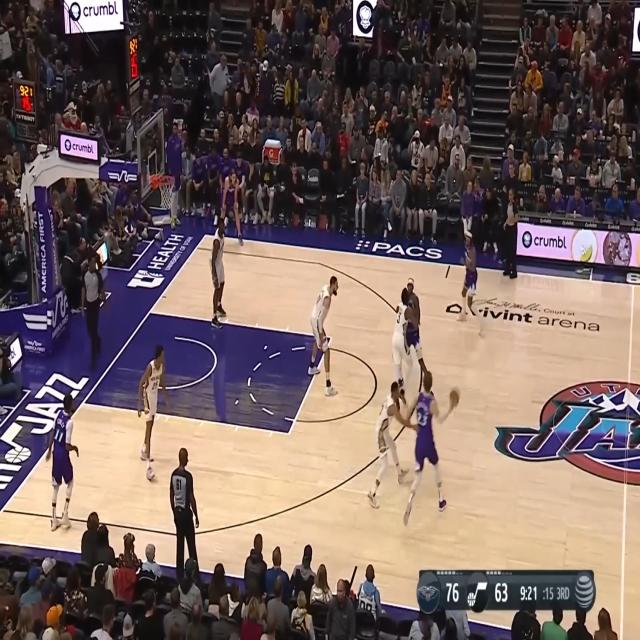Ball: (450, 389, 460, 408)
Clock: (13, 80, 36, 113), (128, 34, 140, 84)
Hoop: (157, 175, 176, 207)
Overlay: (417, 570, 596, 614)
Player: (402, 371, 453, 526), (367, 381, 411, 508), (45, 393, 79, 531), (397, 276, 434, 396), (137, 345, 167, 482), (308, 274, 338, 399), (457, 229, 487, 337), (391, 286, 414, 408), (208, 219, 226, 331), (220, 168, 244, 247)
Ref: (169, 446, 202, 584), (80, 252, 106, 374), (503, 186, 519, 280)
Scoreboard: (417, 570, 572, 613)
